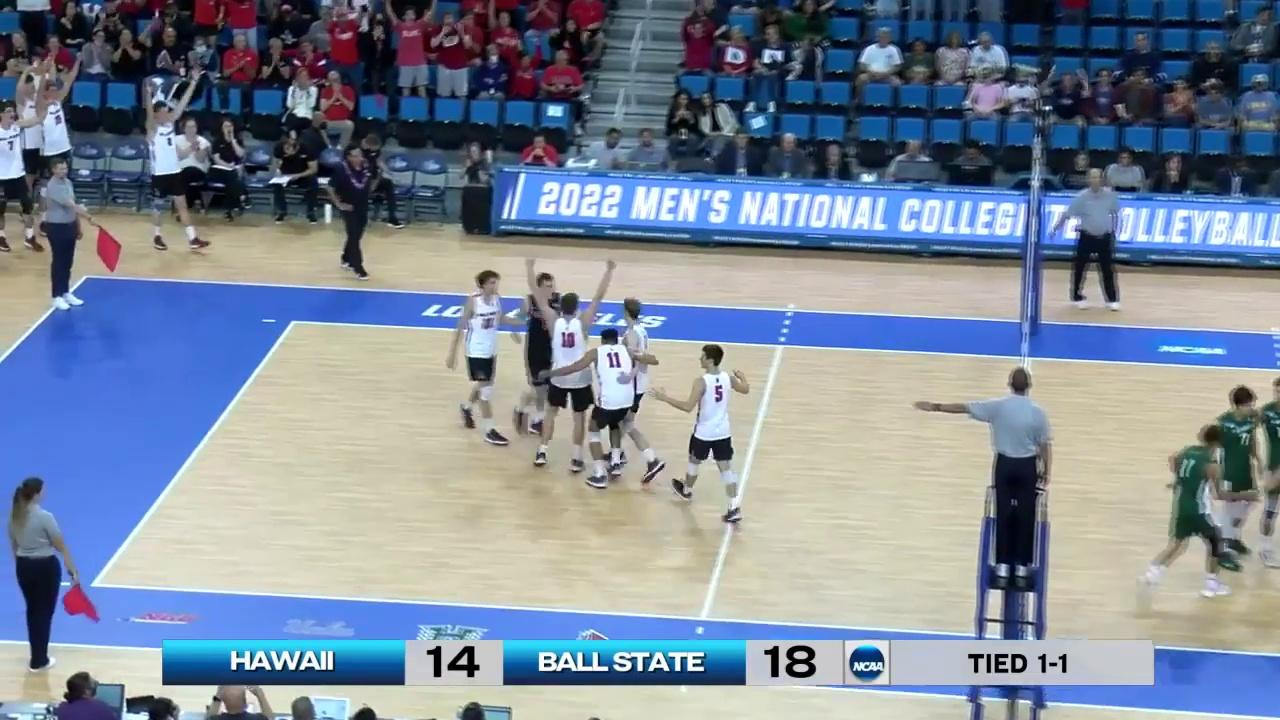player: (1142, 427, 1230, 596), (673, 342, 752, 521), (602, 298, 667, 487), (448, 271, 513, 445), (536, 294, 591, 471), (1211, 387, 1260, 571), (515, 271, 569, 434), (582, 329, 637, 488), (1258, 379, 1280, 571)
refree: (4, 479, 85, 669), (983, 370, 1049, 584), (1068, 164, 1130, 312), (43, 160, 102, 312)
